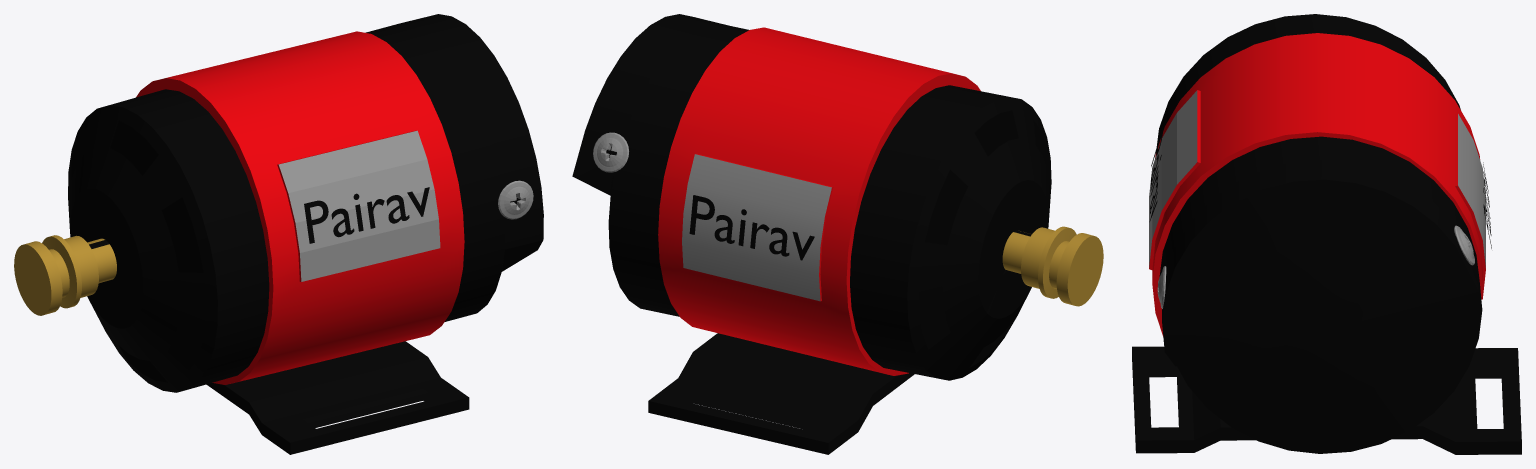
The model's file is motor.glb.
3 views of the same model, side by side, from view 1: azimuth 30°, elevation 25°; view 2: azimuth 150°, elevation 25°; view 3: azimuth 270°, elevation 25° (orthographic). The views are drawn at different scales.
Parts seen in each view (by area): view 1: Cylinder.007, Text; view 2: Cylinder.007, Text.001; view 3: Cylinder.007.
Boxes of the visible parts, x1,y1,x2,y2 form: Cylinder.007: [14, 14, 543, 454]; Text: [304, 187, 429, 243]; Cylinder.007: [572, 14, 1103, 454]; Text.001: [689, 195, 814, 260]; Cylinder.007: [1132, 14, 1521, 454].
Size of the model in its own units: 0.2205 by 0.1432 by 0.1548.
